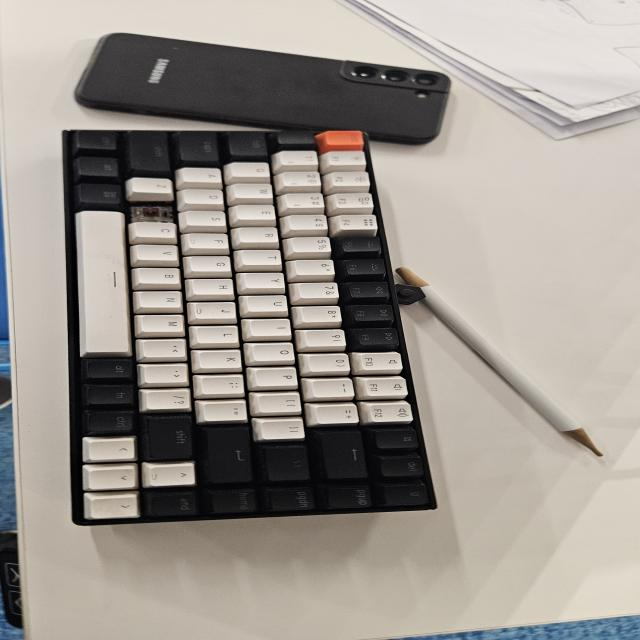C: (133, 203, 170, 221)
